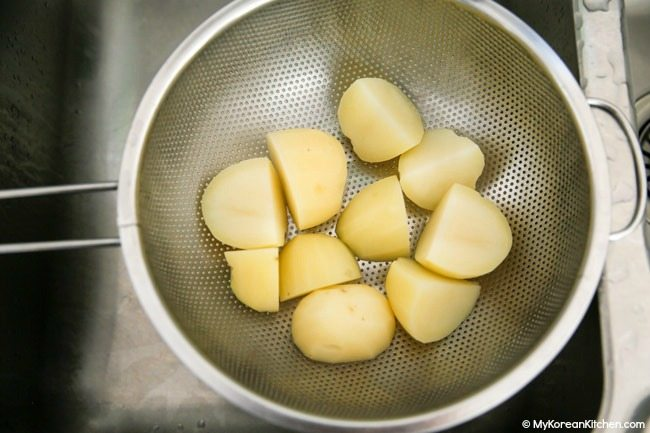boiled potatoes: (197, 156, 296, 253), (426, 181, 510, 282), (294, 284, 392, 361)
